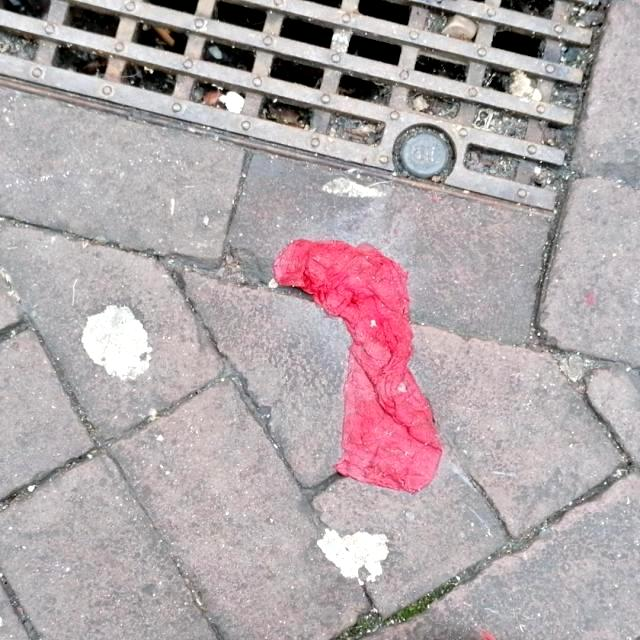Paper: (270, 237, 444, 493)
